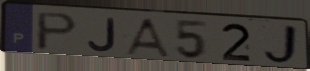2: (220, 22, 253, 63)
5: (173, 18, 211, 60)
A: (121, 17, 173, 59)
J: (261, 23, 302, 67), (86, 16, 118, 53)
P: (35, 11, 81, 52)
